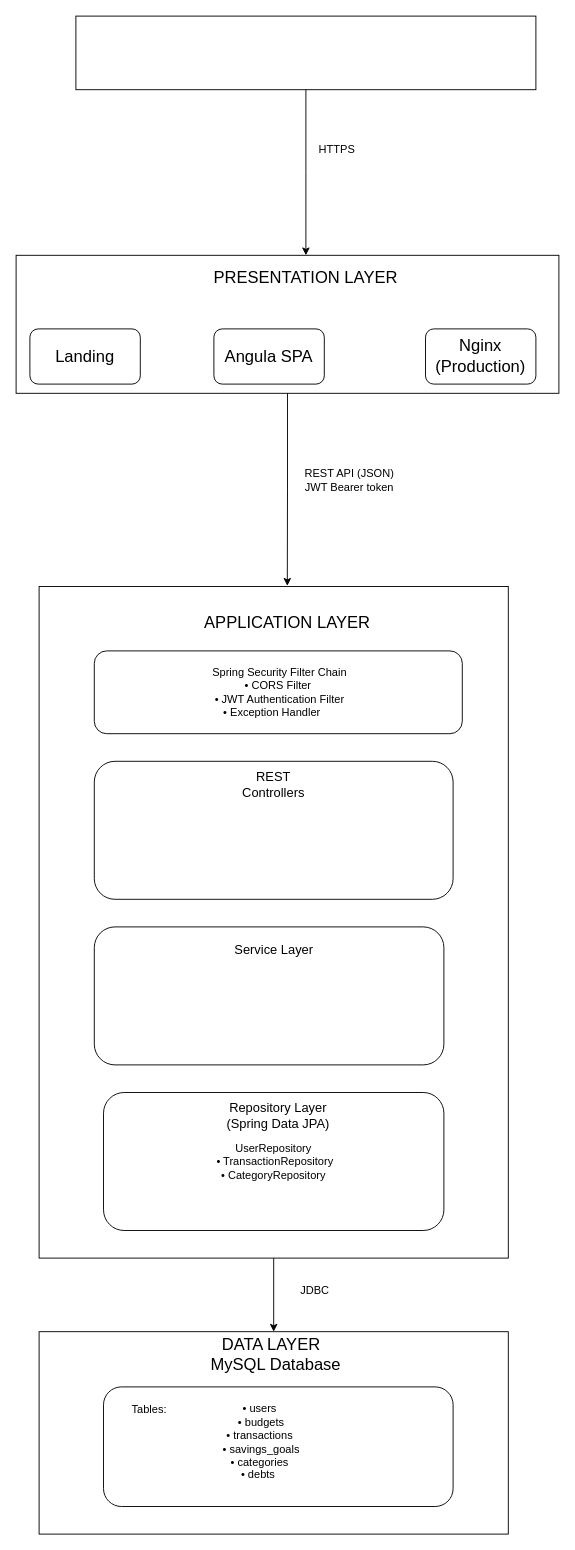
Image size: 575x1550. Some labels were removed from this diagram. The box of each missing label's shape, as (x1, y1, x2, y2) in pixels:
/api/v1/auth/* /api/v1/transactions/* /api/v1/dashboard/* /api/v1/budgets/*: (93, 760, 453, 899)
Business Logic • Validation • CSV Processing • Calculations: (93, 926, 444, 1065)
Client Layer [Browser] [Mobile Browser] [Desktop Browser]: (75, 15, 536, 90)
